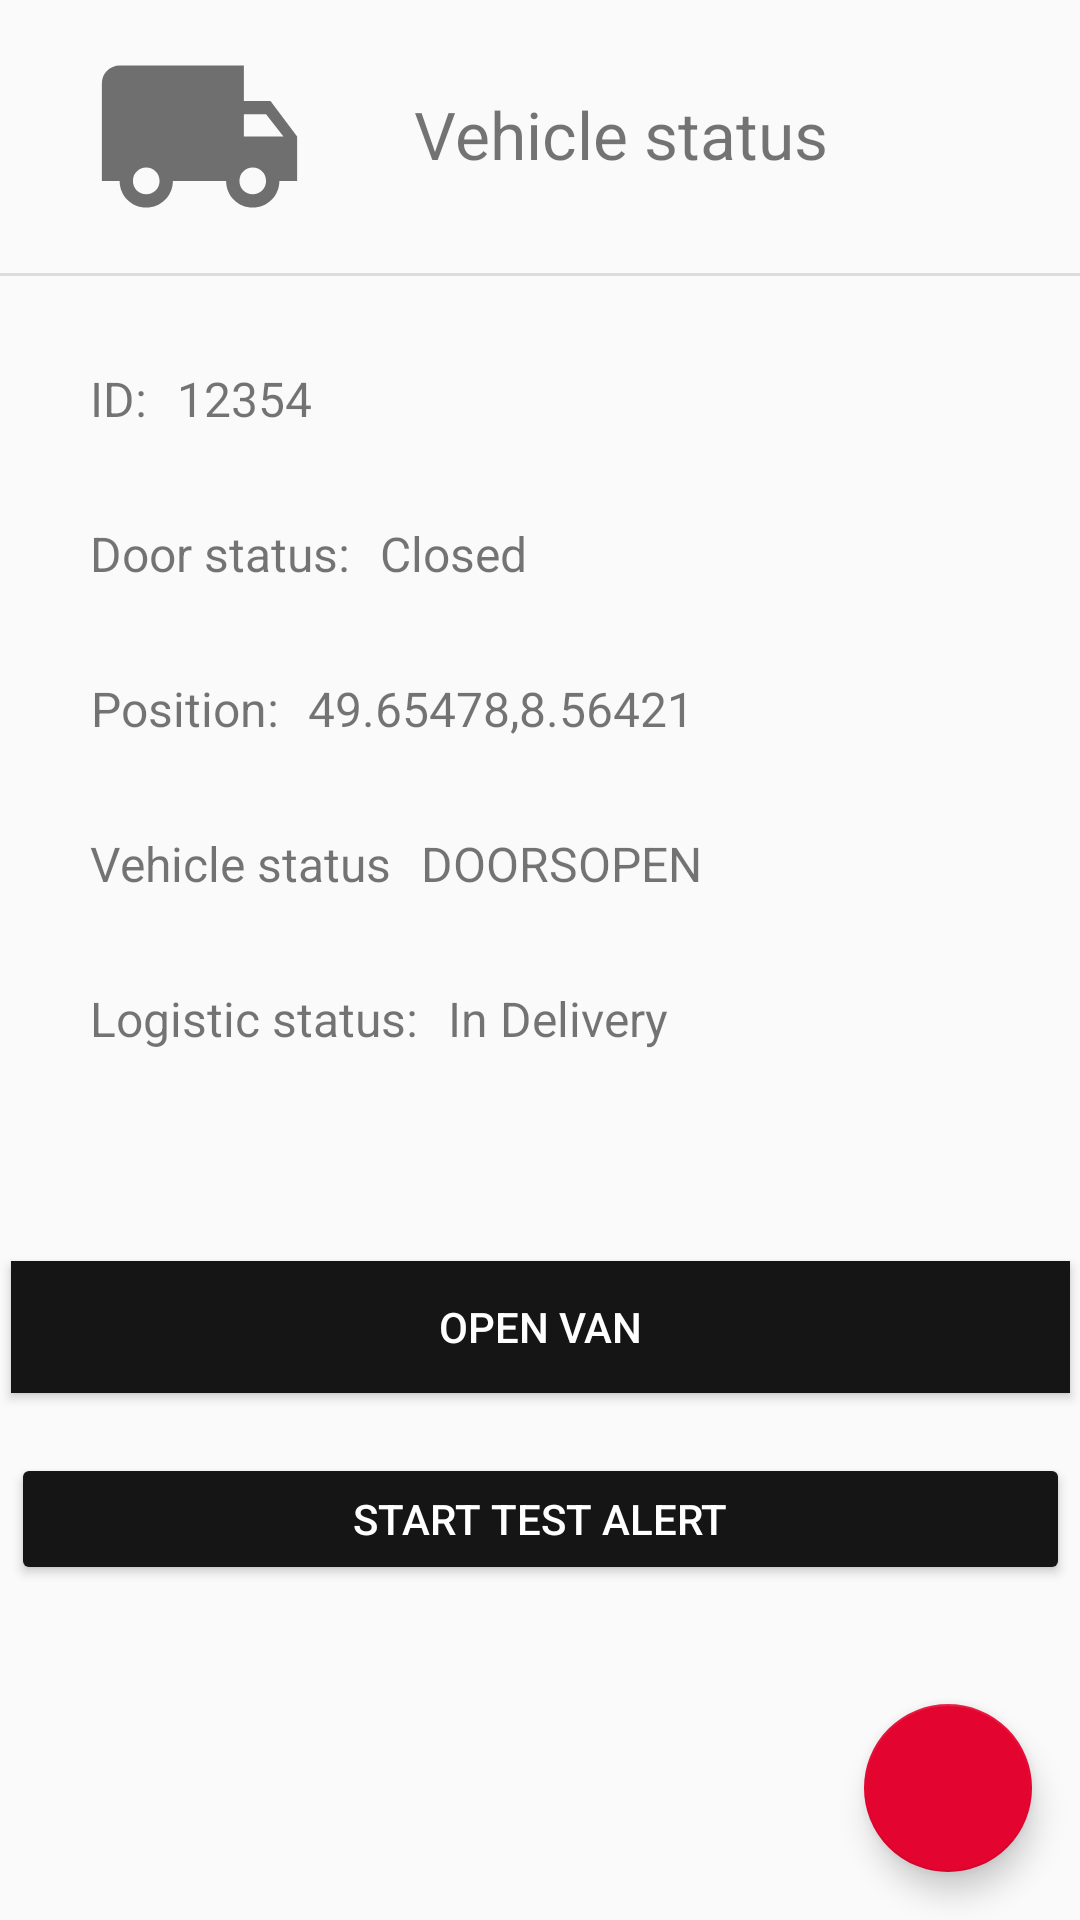

Icons on this 1080w x 1920h Android screen, each with its box as (left=x1, top=y1, right=x2, bottom=y2):
local shipping: (left=102, top=65, right=297, bottom=208)
